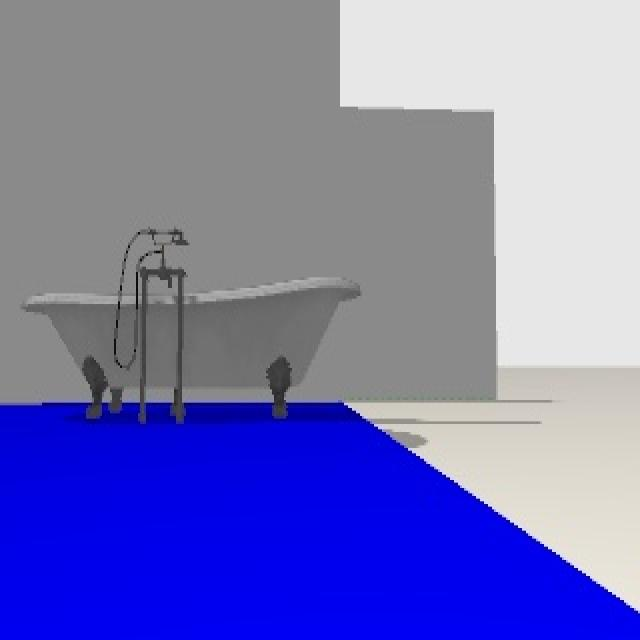bathtub: (20, 229, 362, 424)
